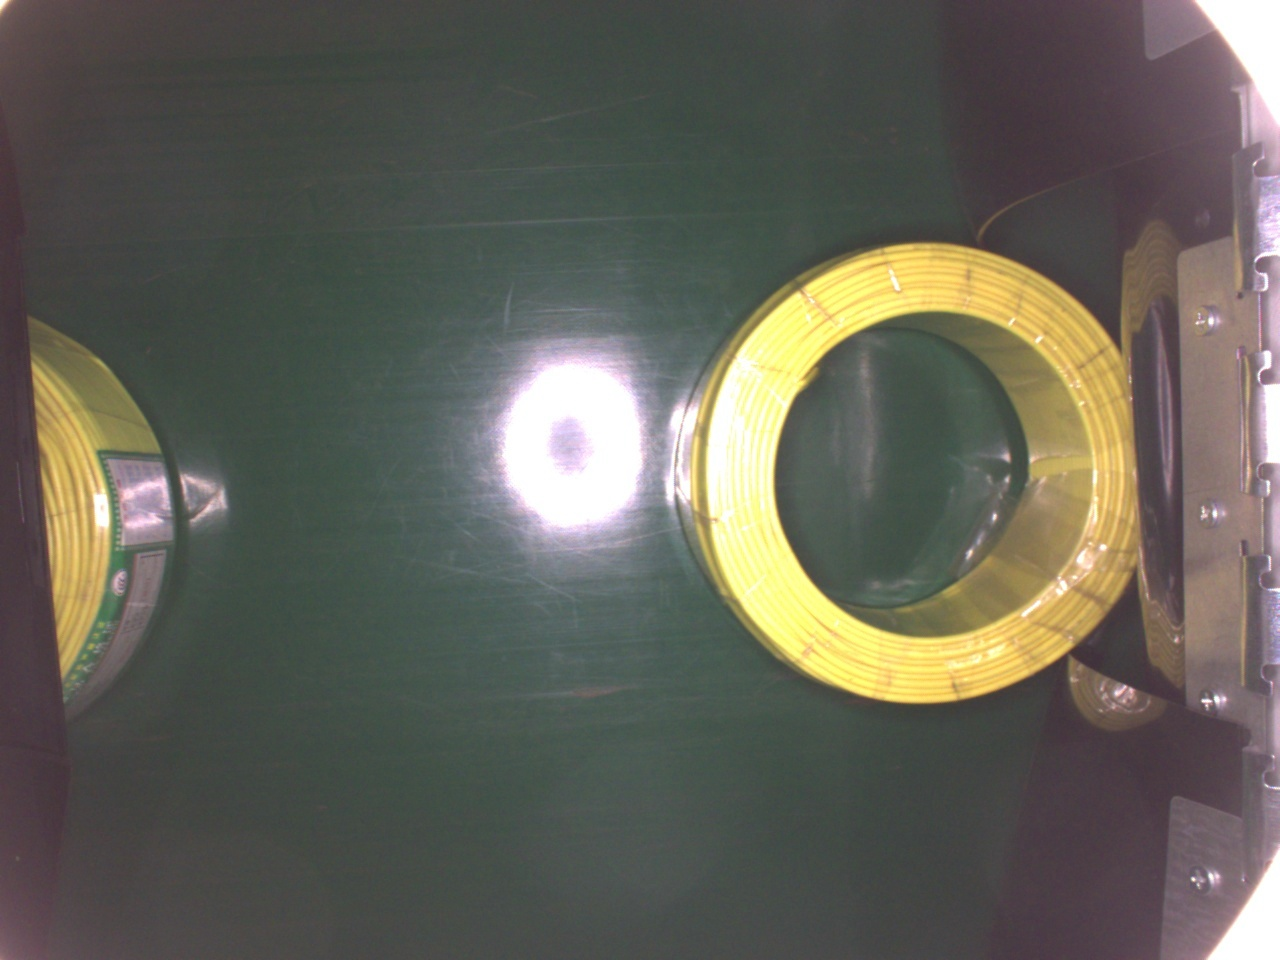yellow: (669, 240, 1140, 705), (28, 314, 182, 726)
